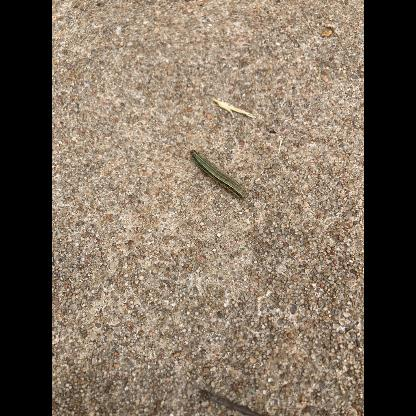Fall Armyworm Larvae: (189, 149, 249, 201)
